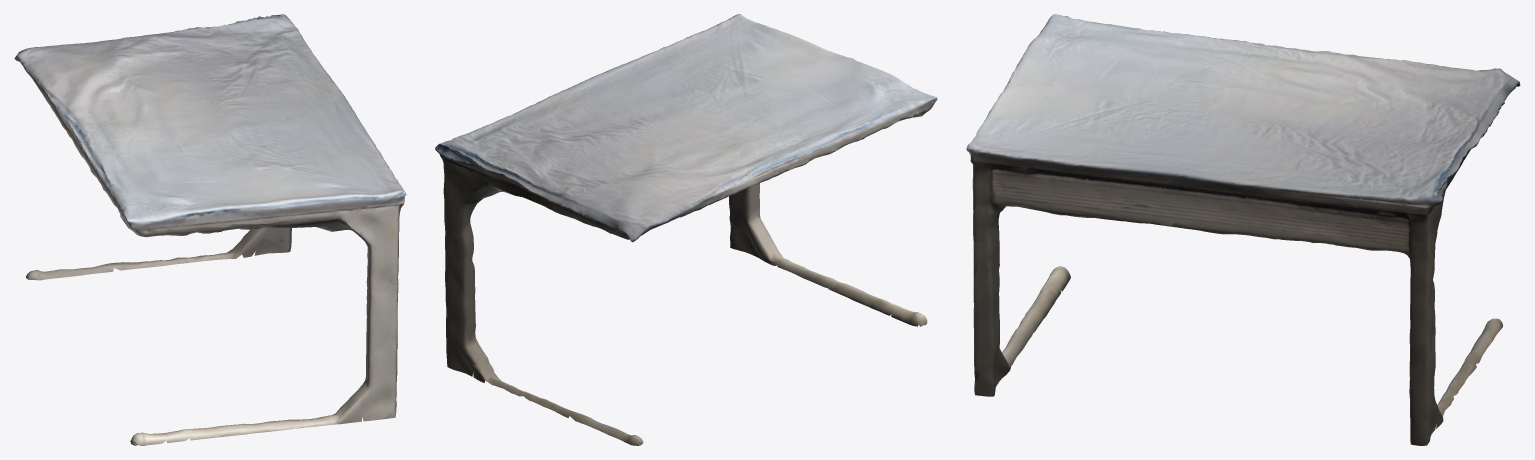
File: table.obj
3 renders of one model, left to right at view 1: azimuth 30°, elevation 25°; view 2: azimuth 150°, elevation 25°; view 3: azimuth 270°, elevation 25°, orthographic. The views are drawn at different scales.
Visible parts, largest first — view 1: Object; view 2: Object; view 3: Object.
Part boxes in pixels (x1=…): Object: x1=14, y1=14, x2=406, y2=445; Object: x1=435, y1=14, x2=937, y2=445; Object: x1=966, y1=14, x2=1520, y2=445.
Bounding box in the file's own units: 1.1 × 0.7261 × 1.42.
Materials: 1 (1 with a texture image).
